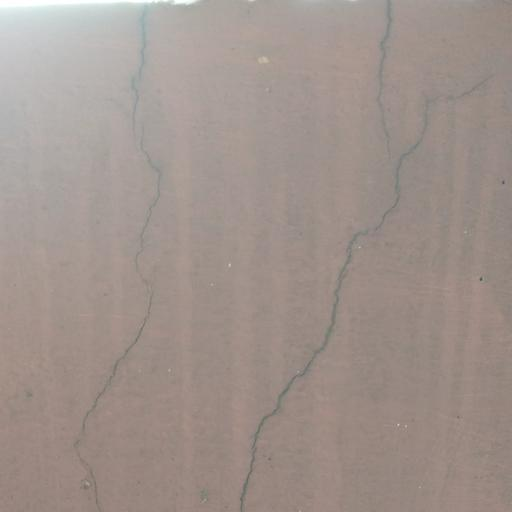minor_crack: (234, 0, 507, 512), (62, 0, 169, 512)
